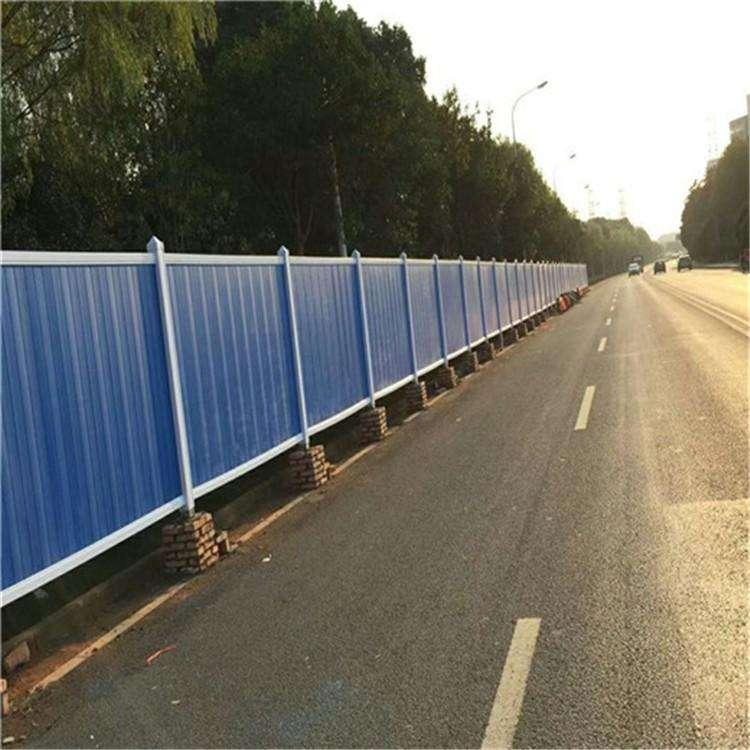sign: (9, 239, 254, 600), (256, 244, 425, 458)
